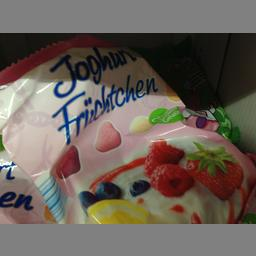candy: (0, 38, 253, 222)
